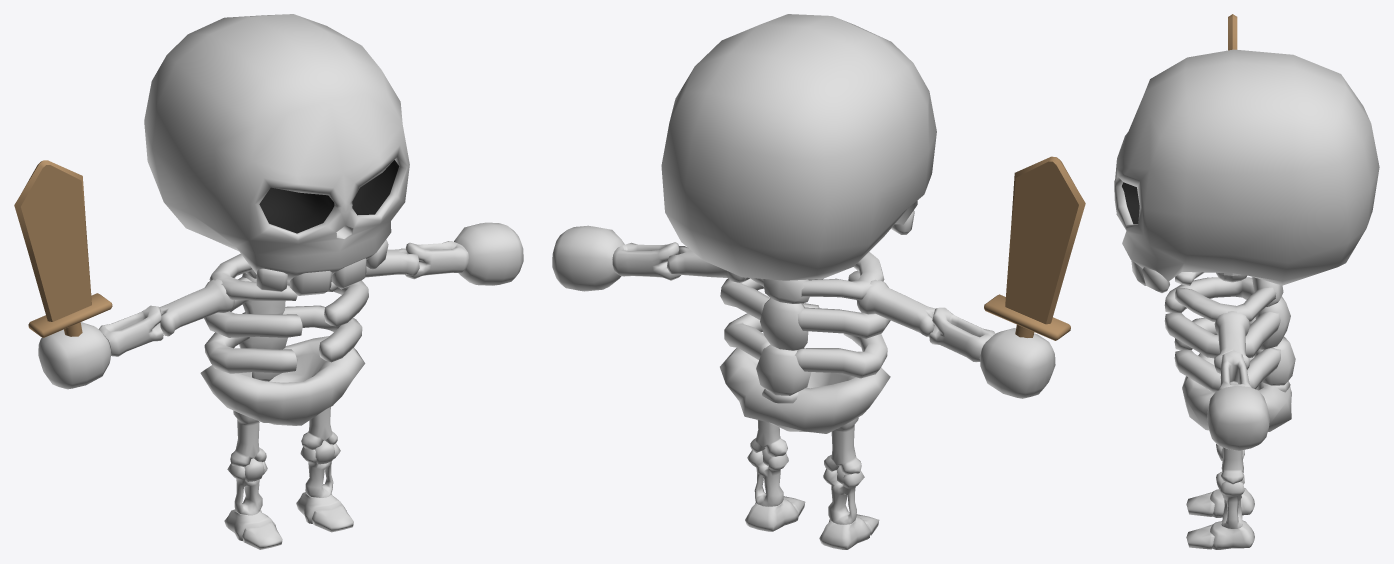
The model's file is Squeleton_Model.fbx.
3 renders of one model, left to right at view 1: azimuth 30°, elevation 25°; view 2: azimuth 150°, elevation 25°; view 3: azimuth 270°, elevation 25°, orthographic. The views are drawn at different scales.
Parts seen in each view (by area): view 1: Angry, body_torso, sword_wood, arm_R3, arm_L3, arm_R1, arm_R2, arm_L2, leg_R1, leg_R3, leg_L3, leg_L1 (+3 smaller); view 2: Angry, body_torso, sword_wood, arm_R3, arm_L3, arm_R1, arm_R2, arm_L2, leg_L2, leg_R2, leg_R1, leg_L3 (+3 smaller); view 3: Angry, body_torso, arm_L3, leg_L3, arm_L1, leg_R3, leg_L2, arm_L2, leg_L1, sword_wood.
Part boxes in pixels (x1,y1,x2,y2): Angry: (144,14,409,295); body_torso: (200,253,368,425); sword_wood: (14,160,112,337); arm_R3: (38,322,111,389); arm_L3: (454,222,523,285); arm_R1: (160,279,234,336); arm_R2: (98,305,163,356); arm_L2: (405,241,468,279); leg_R1: (230,410,266,481); leg_R3: (224,509,282,549); leg_L3: (296,492,353,532); leg_L1: (301,407,337,464); Angry: (661,14,936,280); body_torso: (720,251,890,433); sword_wood: (984,156,1085,340); arm_R3: (980,328,1055,398); arm_L3: (552,225,624,291); arm_R1: (856,279,934,336); arm_R2: (929,307,995,362); arm_L2: (612,242,680,280); leg_L2: (747,450,788,506); leg_R2: (823,468,864,524); leg_R1: (824,417,861,484); leg_L3: (745,496,805,531); Angry: (1114,49,1379,292); body_torso: (1164,272,1295,431); arm_L3: (1207,385,1269,450); leg_L3: (1186,520,1254,549); arm_L1: (1214,311,1250,373); leg_R3: (1186,488,1254,517); leg_L2: (1220,477,1244,528); arm_L2: (1218,350,1251,390); leg_L1: (1216,447,1244,493); sword_wood: (1228,14,1237,50).
Bounding box in the file's own units: 3.17 × 2.92 × 1.51.
